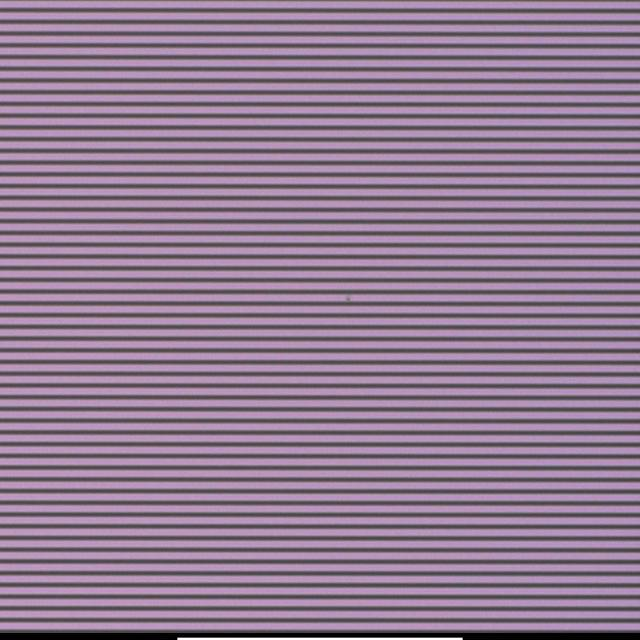nonvisual: (342, 290, 356, 307)
